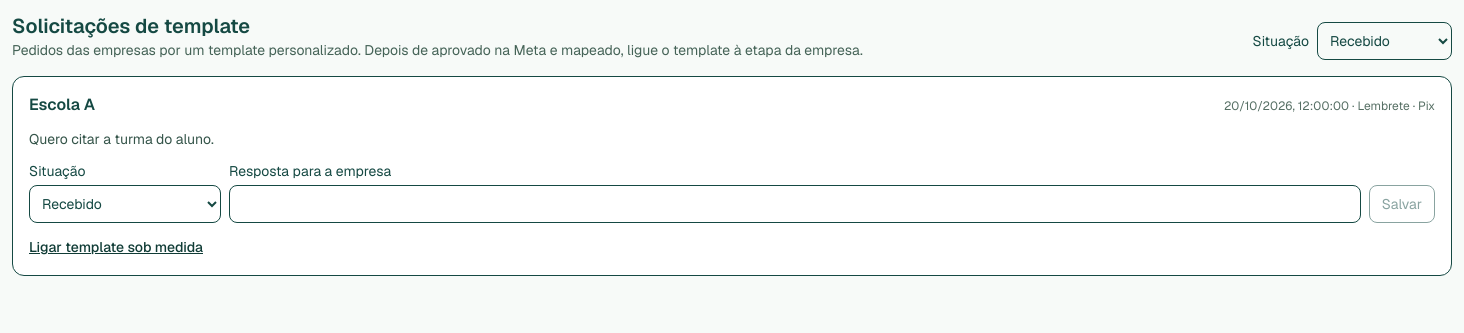
TemplateRequestsAdmin › lists open requests and saves a status with the version seen
Expected: the text "Quero citar a turma do aluno." is shown, x1=29 y1=130 x2=214 y2=148
Select "Em andamento" in the dropdown named "Situação do pedido de Escola A": (125, 204) x1=29 y1=185 x2=221 y2=223
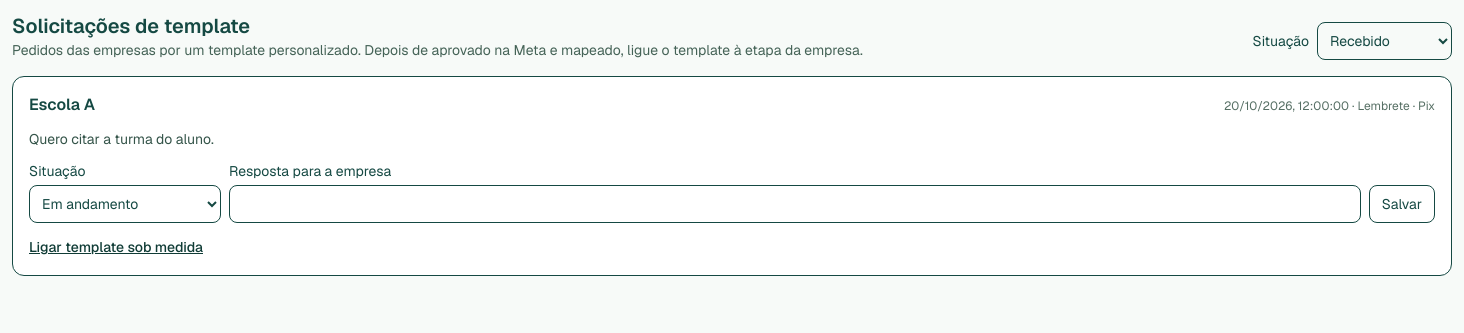
In the field labelled "Resposta para a empresa": (795, 204) x1=229 y1=185 x2=1361 y2=223, type "Enviado para aprovação na Meta."
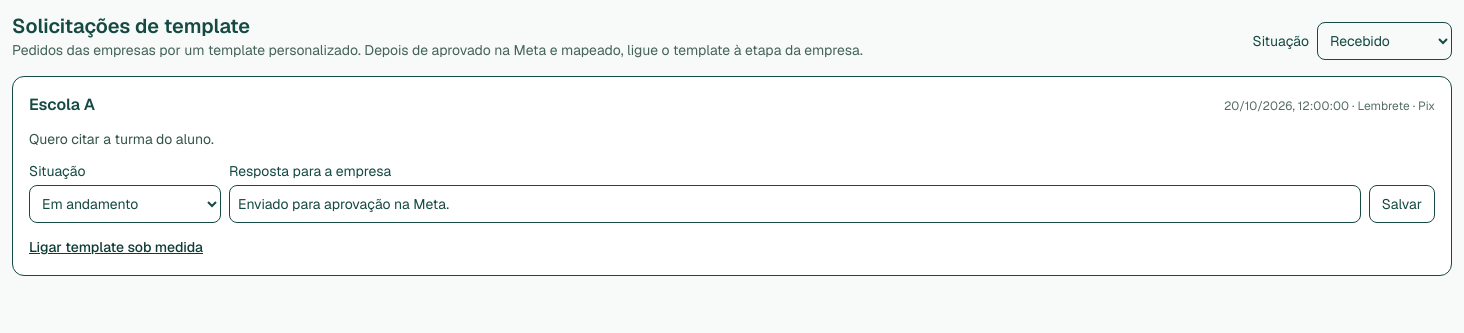
Click the button "Salvar": (1402, 204) x1=1369 y1=185 x2=1435 y2=223
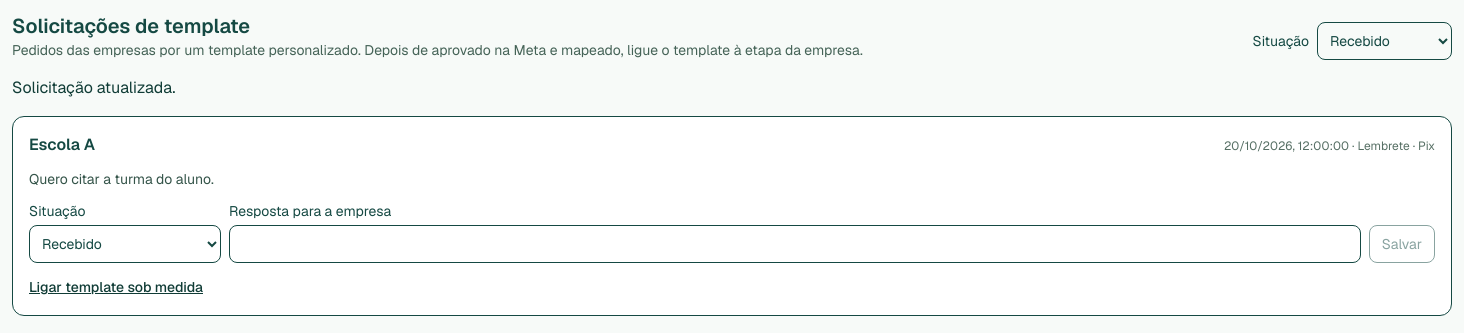
Expected: the message reads "Solicitação atualizada.", x1=12 y1=77 x2=176 y2=98
